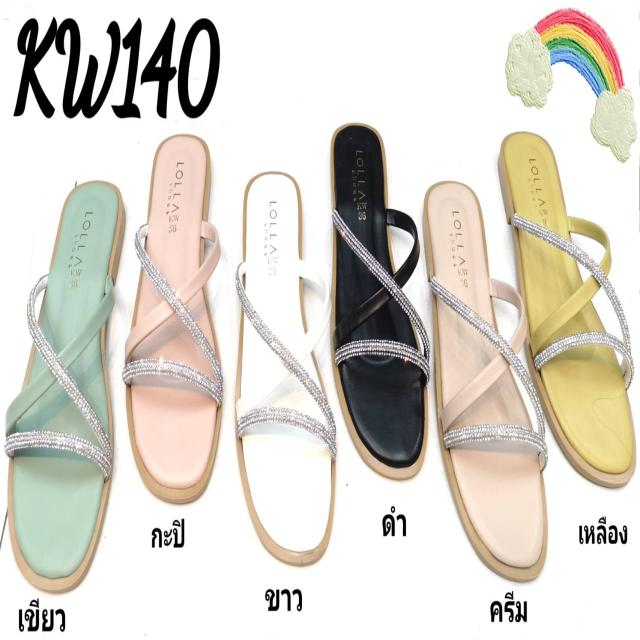black: (331, 111, 421, 465)
cream: (424, 190, 543, 576)
green: (11, 179, 122, 578)
kapi: (129, 136, 221, 495)
white: (244, 175, 328, 559)
yellow: (498, 133, 630, 484)
